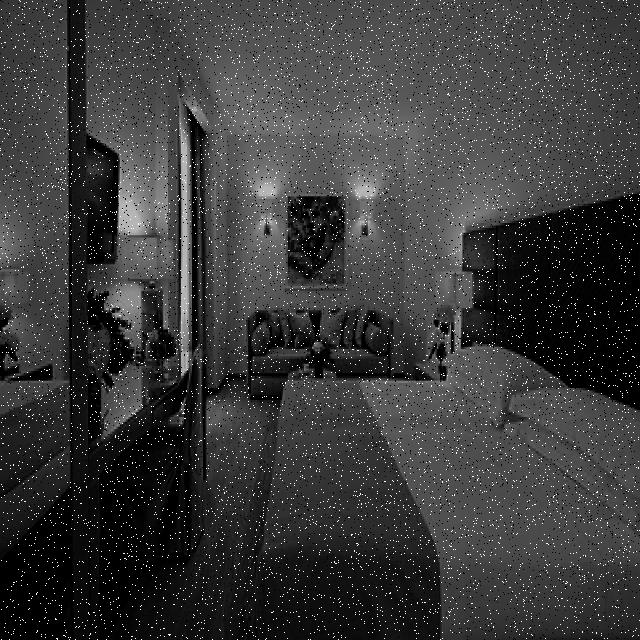bed: (273, 340, 640, 640)
